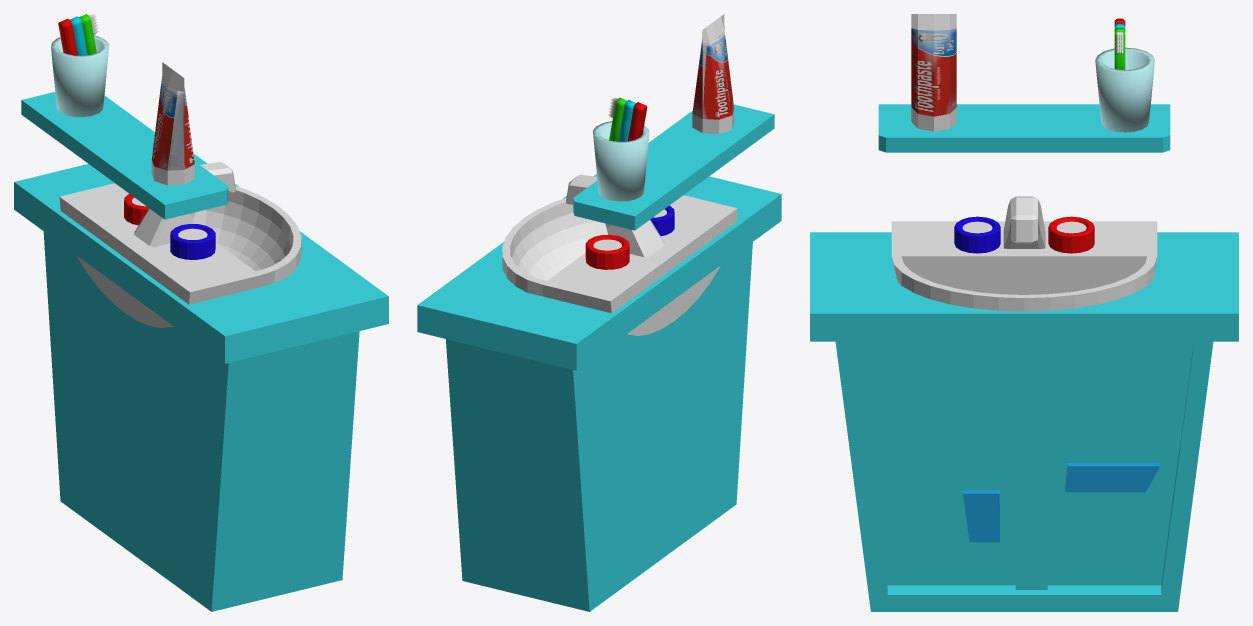
The model's file is rakovina.fbx.
The picture shows the model from 3 angles, left to right: view 1: azimuth 30°, elevation 25°; view 2: azimuth 150°, elevation 25°; view 3: azimuth 270°, elevation 25°; orthographic projection. The views are drawn at different scales.
Visible parts, largest first — view 1: Cube, Cube.001, Circle.001, Circle, chyotka, schyotka; view 2: Cube, Cube.001, Circle.001, Circle, schyotka, chyotka; view 3: Cube, Cube.001, Circle.001, Circle.
Boxes of the visible parts, bbox=[...] form: Cube: bbox=[14, 153, 388, 611]; Cube.001: bbox=[21, 92, 228, 219]; Circle.001: bbox=[151, 62, 194, 185]; Circle: bbox=[51, 35, 109, 117]; chyotka: bbox=[58, 18, 77, 55]; schyotka: bbox=[79, 14, 98, 54]; Cube: bbox=[417, 174, 781, 611]; Cube.001: bbox=[573, 104, 774, 230]; Circle.001: bbox=[692, 14, 734, 133]; Circle: bbox=[593, 121, 649, 201]; schyotka: bbox=[608, 97, 626, 141]; chyotka: bbox=[628, 102, 647, 141]; Cube: bbox=[810, 196, 1238, 611]; Cube.001: bbox=[878, 104, 1170, 152]; Circle.001: bbox=[911, 14, 956, 131]; Circle: bbox=[1095, 47, 1154, 132].
Size of the model in its own units: 291 by 761 by 558.
Materials: 16 (1 with a texture image).
